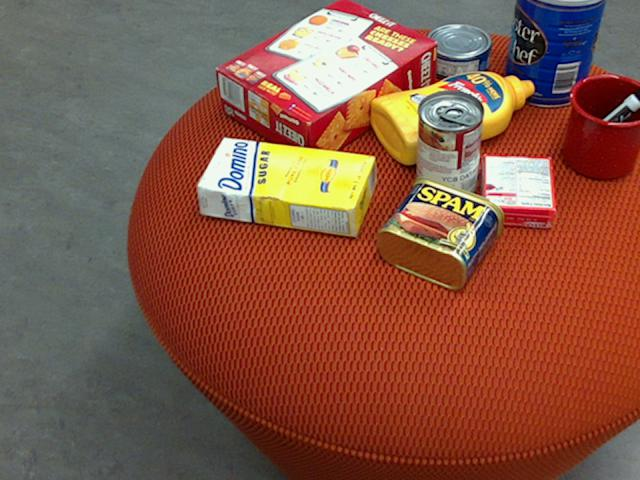cracker_box: (214, 0, 436, 165)
gelatin_box: (482, 155, 556, 229)
large_marker: (566, 85, 639, 159)
master_chef_can: (502, 0, 606, 106)
mug: (562, 73, 639, 179)
mustard_bottle: (369, 72, 534, 164)
potted_meat_can: (376, 175, 503, 289)
sugar_box: (194, 136, 375, 237)
tomato_soup_can: (415, 88, 482, 203)
tuna_fish_can: (422, 24, 491, 79)
